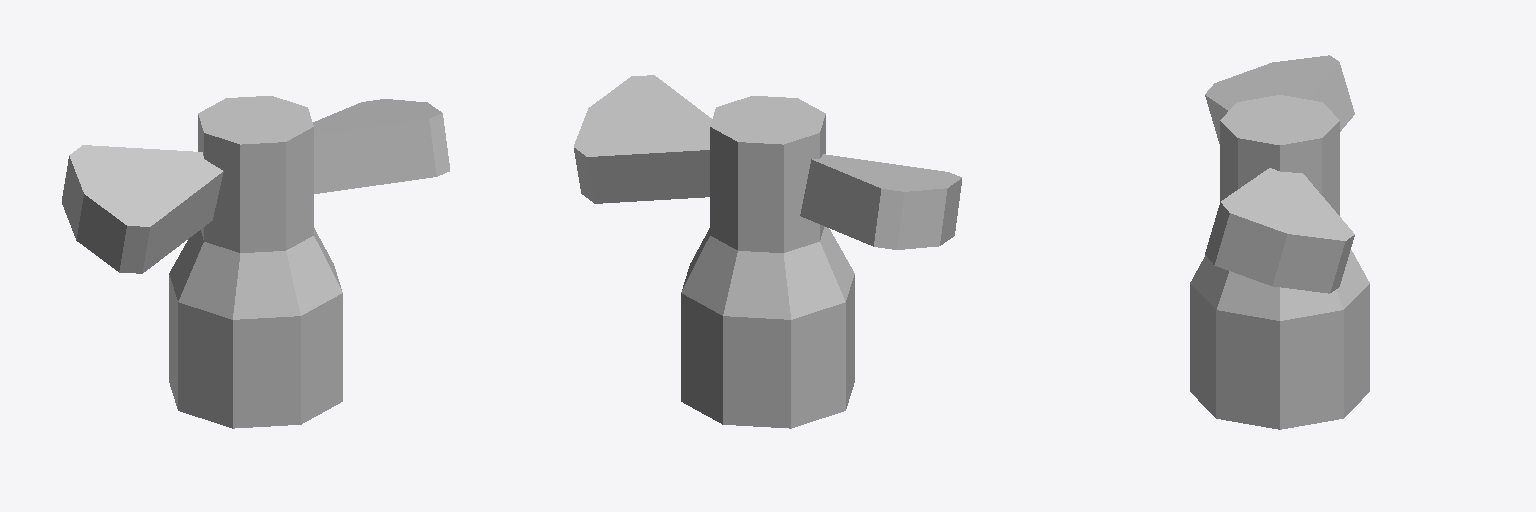
File: fan-simple-two.obj
3 renders of one model, left to right at view 1: azimuth 30°, elevation 25°; view 2: azimuth 150°, elevation 25°; view 3: azimuth 270°, elevation 25°, orthographic.
Parts seen in each view (by area): view 1: fan-simple-two, fan; view 2: fan-simple-two, fan; view 3: fan-simple-two, fan.
Part boxes in pixels (left/top/right/bottom): fan-simple-two: left=169, top=96, right=342, bottom=428; fan: left=62, top=99, right=449, bottom=273; fan-simple-two: left=681, top=96, right=854, bottom=428; fan: left=574, top=75, right=961, bottom=249; fan-simple-two: left=1190, top=95, right=1369, bottom=429; fan: left=1205, top=55, right=1354, bottom=293.
Size of the model in its own units: 0.6765 by 0.5 by 0.3.